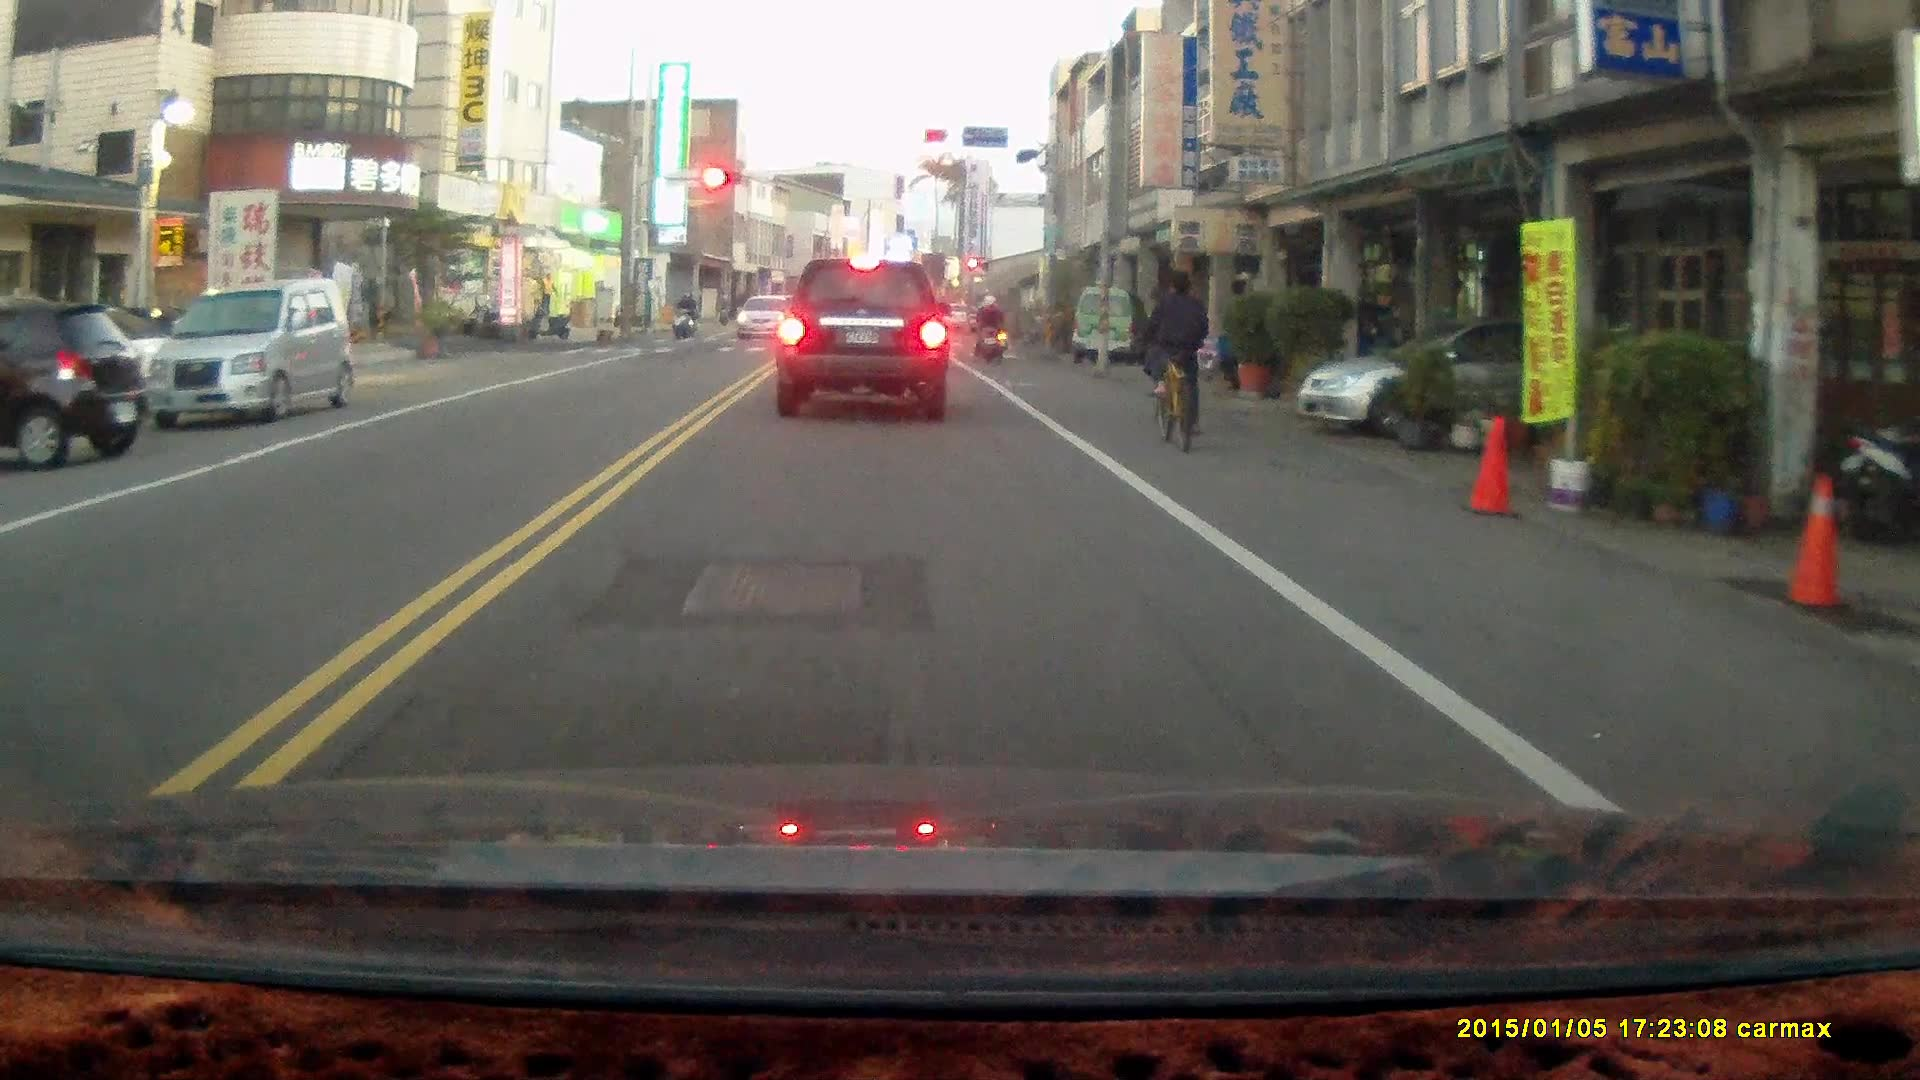pedestrian: (535, 270, 555, 317)
rider: (1141, 268, 1209, 451), (971, 290, 1008, 362), (670, 290, 696, 341)
vehicle: (1296, 315, 1655, 437), (145, 276, 355, 428), (771, 254, 952, 424), (1, 297, 148, 475), (1070, 289, 1145, 366)
